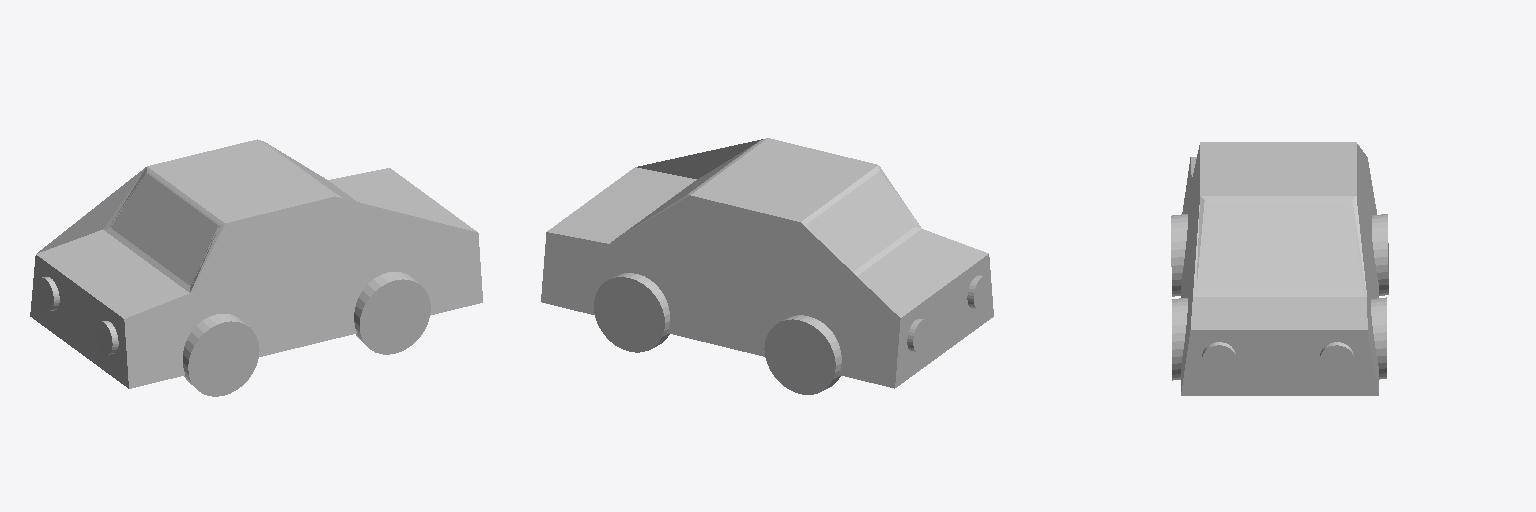
Rendered from car.obj.
The picture shows the model from 3 angles: view 1: azimuth 30°, elevation 25°; view 2: azimuth 150°, elevation 25°; view 3: azimuth 270°, elevation 25°; orthographic projection.
Visible parts, largest first — view 1: Куб, Цилиндр.002, Цилиндр.001, Цилиндр.007, Цилиндр.006; view 2: Куб, Цилиндр.003, Цилиндр, Цилиндр.007, Цилиндр.006; view 3: Куб, Цилиндр.003, Цилиндр.002, Цилиндр.001, Цилиндр, Цилиндр.004, Цилиндр.005.
Boxes of the visible parts, <box> form: Куб: <box>30,139,482,388</box>; Цилиндр.002: <box>183,314,259,396</box>; Цилиндр.001: <box>354,272,430,354</box>; Цилиндр.007: <box>95,321,118,354</box>; Цилиндр.006: <box>36,277,59,310</box>; Куб: <box>541,138,993,388</box>; Цилиндр.003: <box>764,315,841,394</box>; Цилиндр: <box>594,273,669,352</box>; Цилиндр.007: <box>967,275,990,308</box>; Цилиндр.006: <box>907,319,930,352</box>; Куб: <box>1181,142,1378,395</box>; Цилиндр.003: <box>1372,214,1388,295</box>; Цилиндр.002: <box>1171,214,1187,296</box>; Цилиндр.001: <box>1172,298,1187,380</box>; Цилиндр: <box>1371,297,1386,379</box>; Цилиндр.004: <box>1202,342,1236,375</box>; Цилиндр.005: <box>1320,342,1353,375</box>.
Bounding box in the file's own units: 5.19 × 2.14 × 2.67.